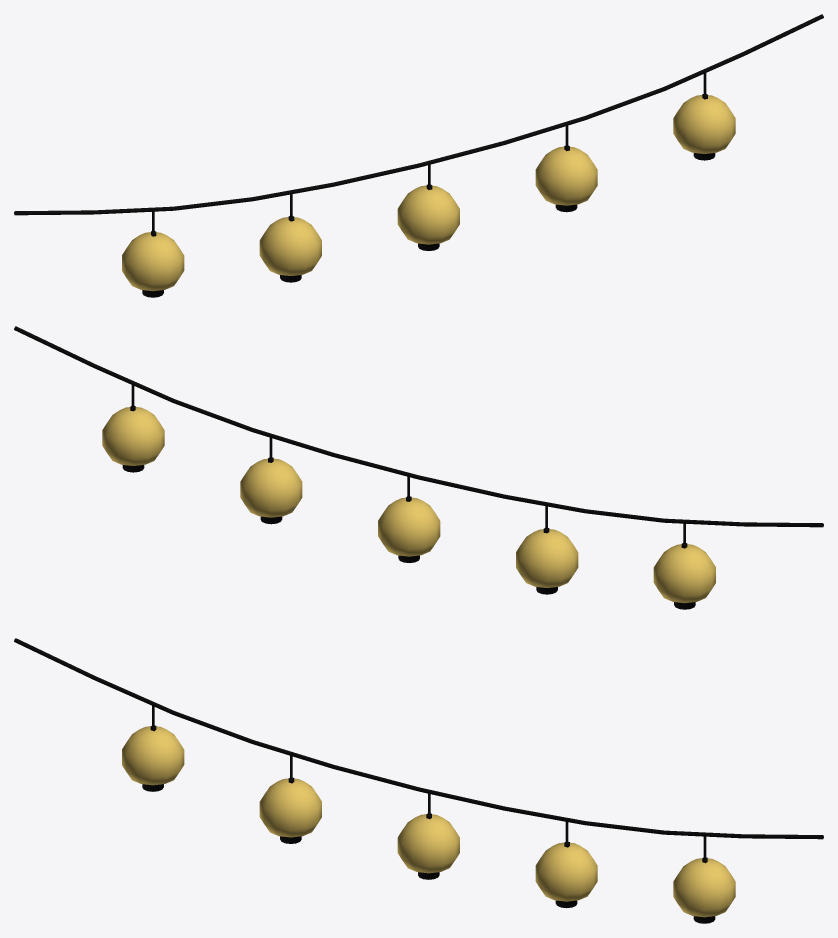
Rendered from SM_lanterns_hanging.fbx.
3 renders of one model, top to bottom at view 1: azimuth 30°, elevation 25°; view 2: azimuth 150°, elevation 25°; view 3: azimuth 330°, elevation 25°, orthographic.
Parts seen in each view (by area): view 1: Line028; view 2: Line028; view 3: Line028.
Part boxes in pixels (box(x1,y1,x2,y2)): Line028: box(14, 14, 823, 297); Line028: box(14, 326, 823, 609); Line028: box(14, 638, 823, 923).
Bounding box in the file's own units: 319 × 51.25 × 21.25.
